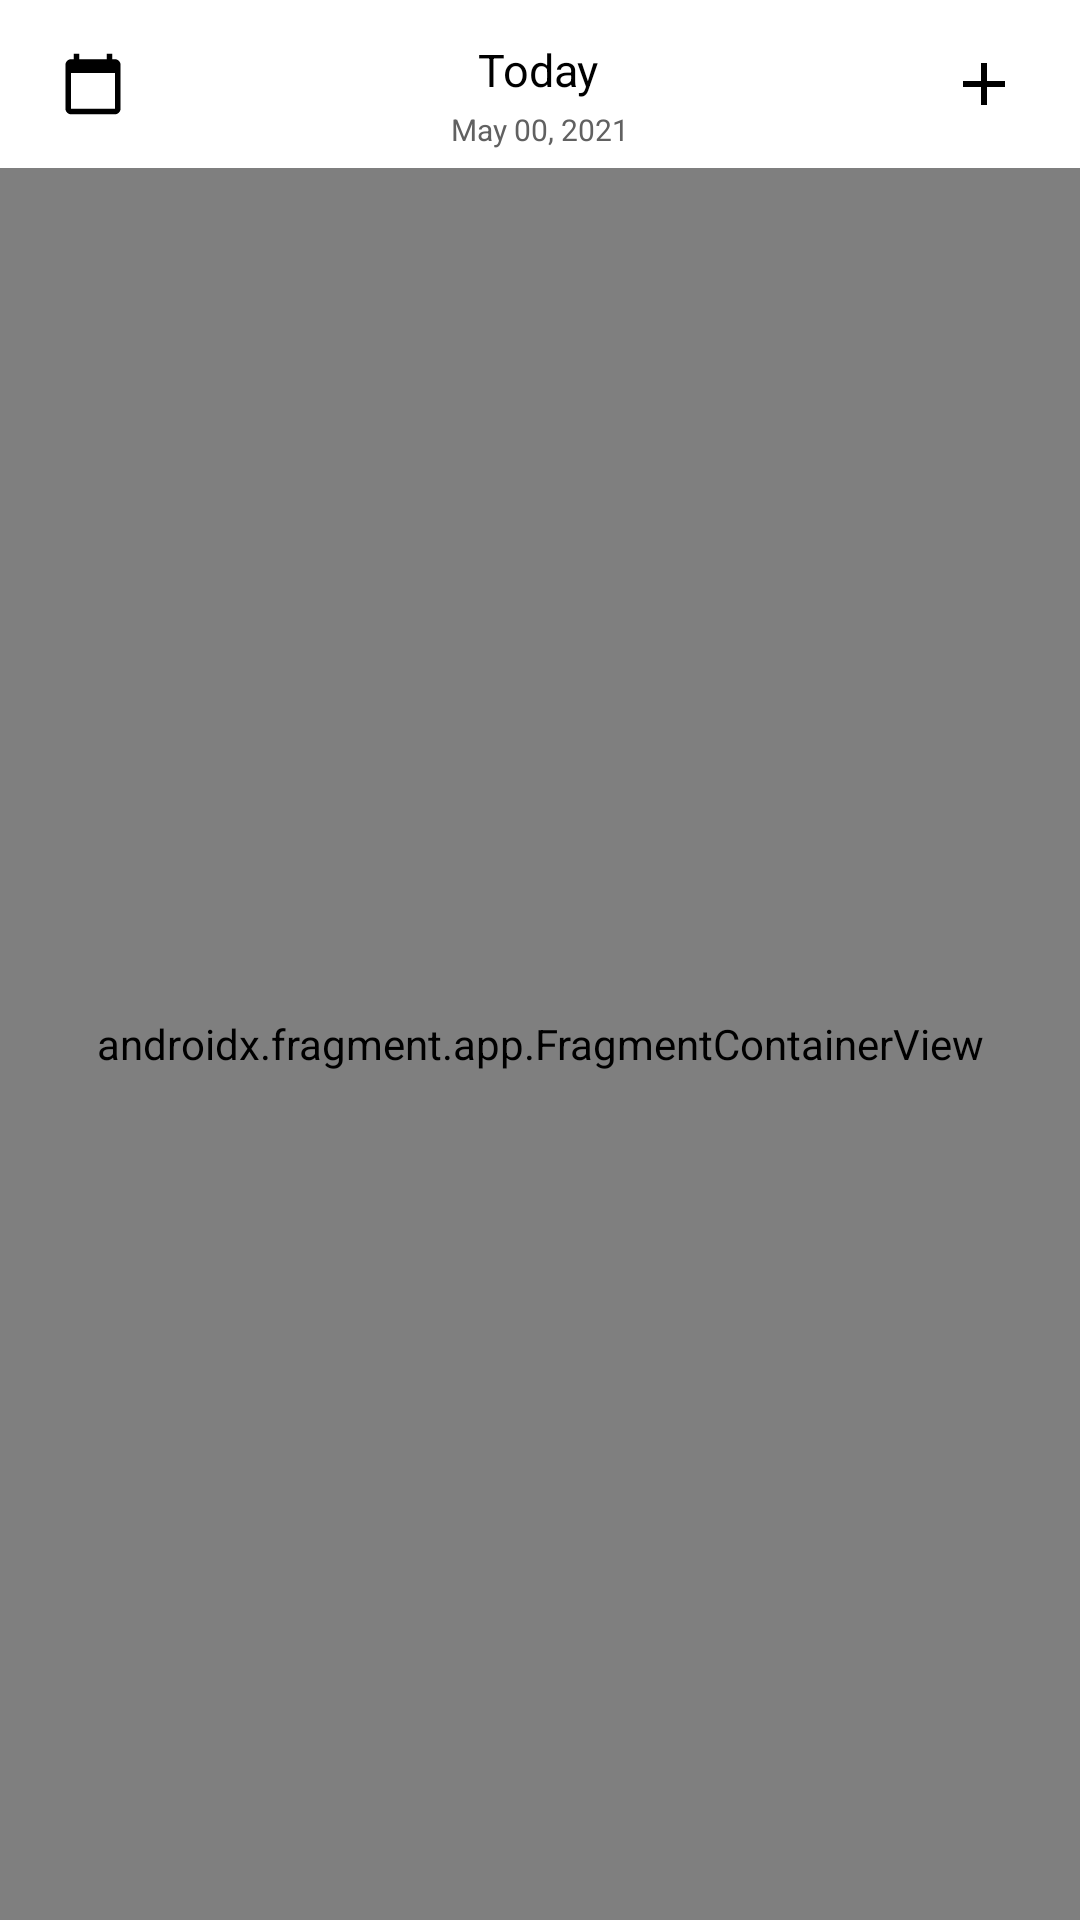

Where icons sit on this 1080*1920 app screen, as (x1, y1, x2, y2):
add: (963, 63, 1005, 105)
calendar today: (65, 53, 121, 115)
